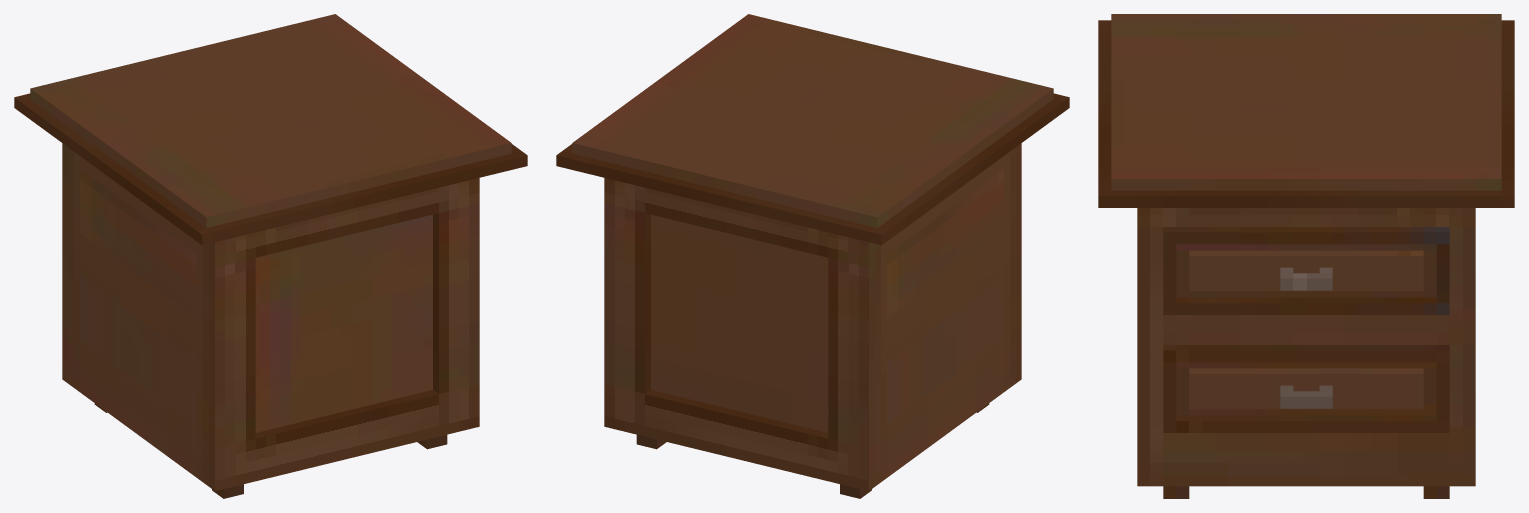
Rendered from bedside-1.glb.
The picture shows the model from 3 angles, left to right: view 1: azimuth 30°, elevation 25°; view 2: azimuth 150°, elevation 25°; view 3: azimuth 270°, elevation 25°; orthographic projection. The views are drawn at different scales.
Parts seen in each view (by area): view 1: Bedside1_Drawer1-Local; view 2: Bedside1_Drawer1-Local; view 3: Bedside1_Drawer1-Local.
Boxes of the visible parts, x1,y1,x2,y2 form: Bedside1_Drawer1-Local: (14,14,527,498); Bedside1_Drawer1-Local: (556,14,1069,498); Bedside1_Drawer1-Local: (1098,14,1514,498).
Size of the model in its own units: 1 by 0.9062 by 1.
Materials: 3 (3 with a texture image).
